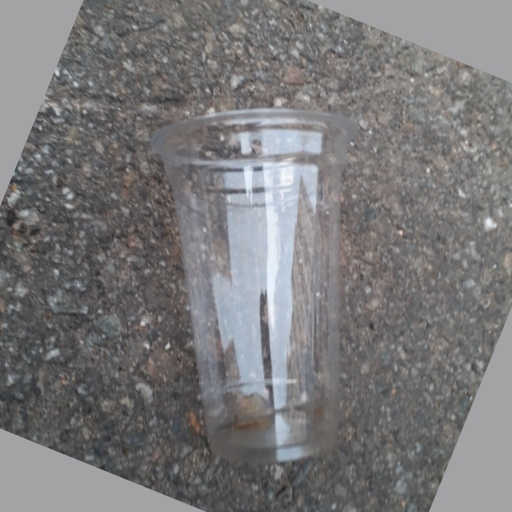Plastic_2: (152, 106, 366, 465)
